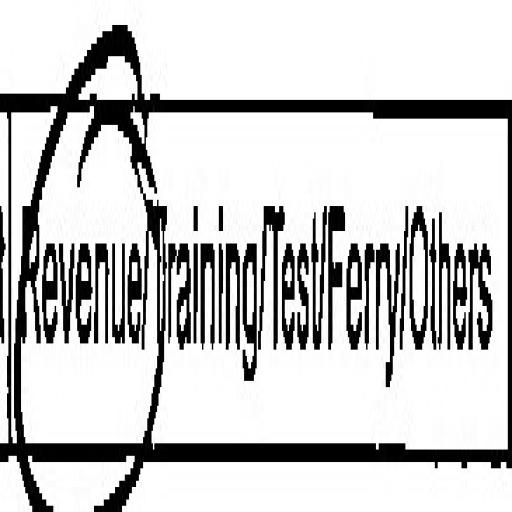check: (7, 0, 155, 512)
